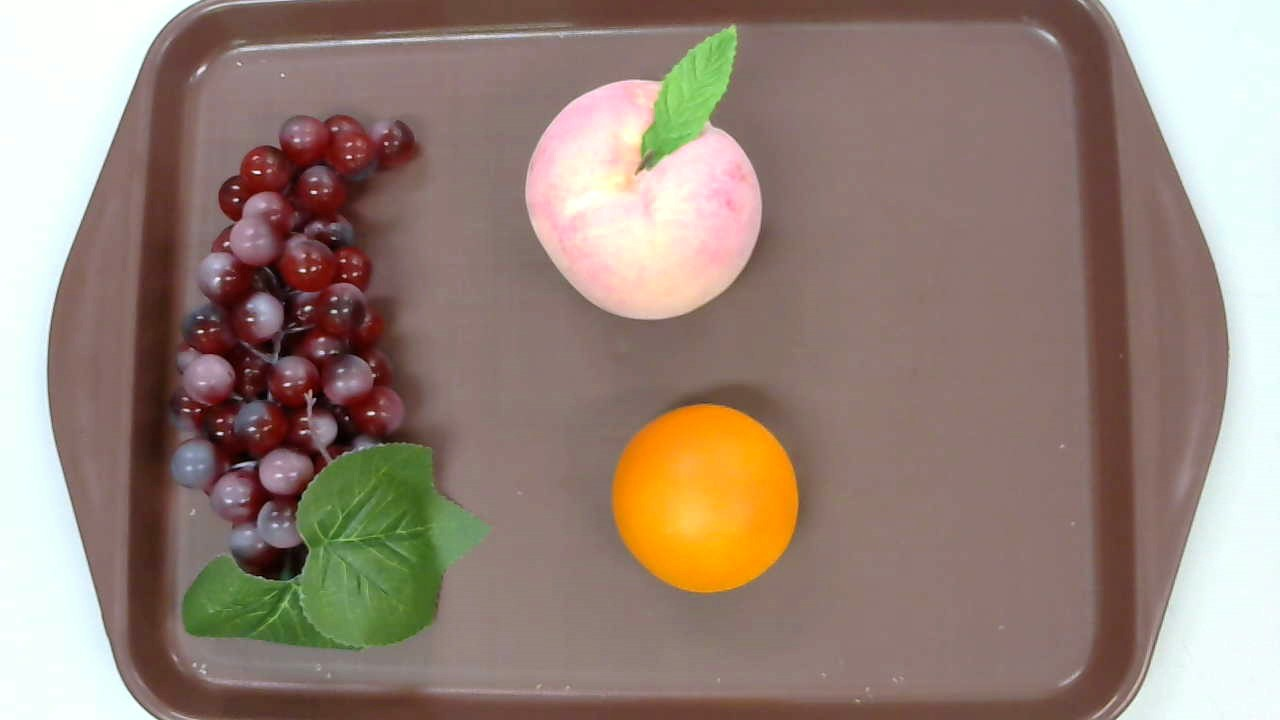bun: (612, 402, 799, 595)
grape: (169, 115, 491, 653)
peach: (525, 23, 763, 322)
